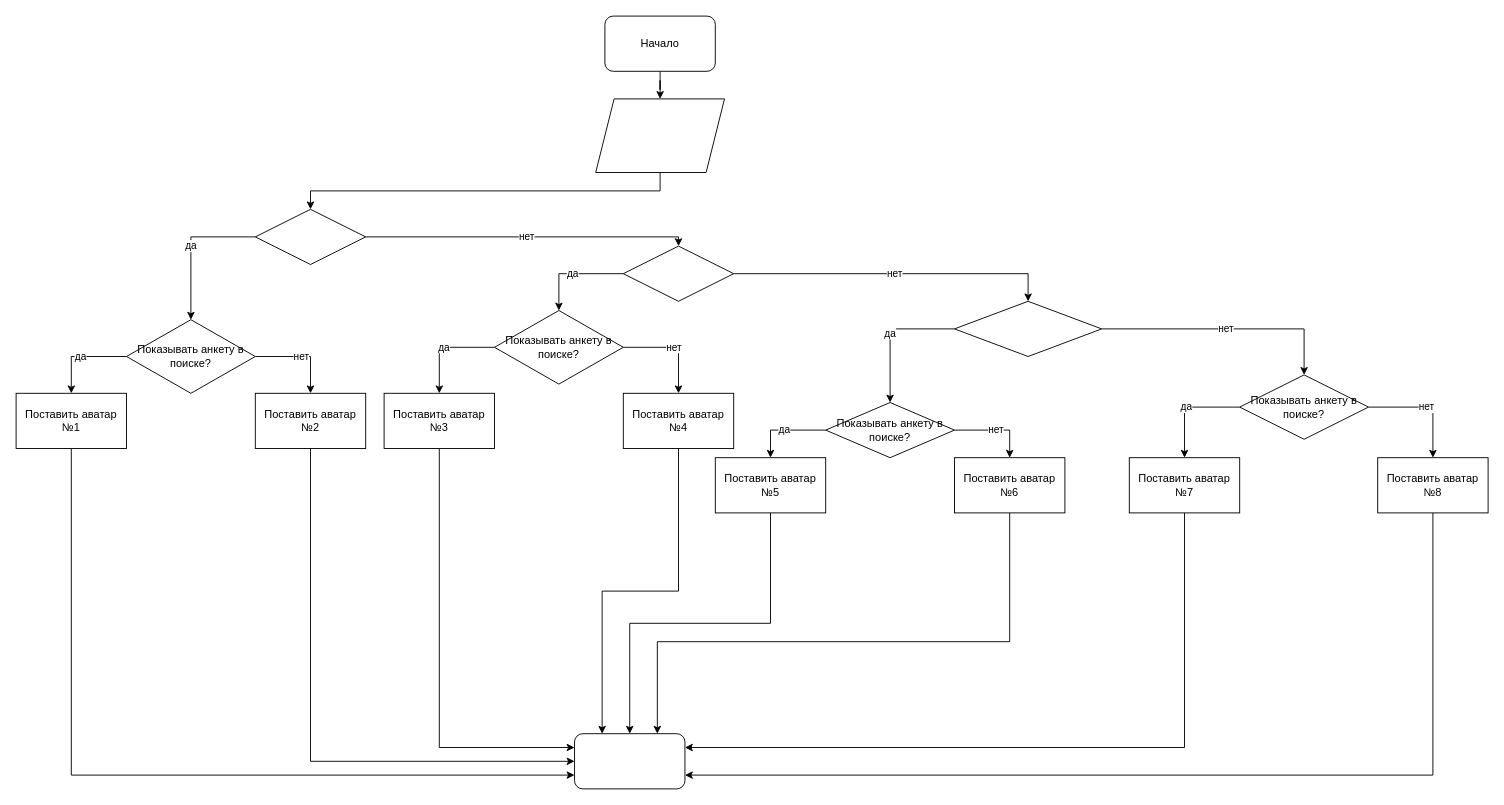
Image size: 1504x805. Some labels were removed from this diagram. Each missing label, with the box of its shape:
Выбран другой пол?: (954, 300, 1102, 356)
Конец: (574, 733, 685, 789)
Пол женский?: (622, 245, 734, 301)
Пол мужской?: (254, 208, 366, 264)
Поле ввода данных: (595, 98, 724, 172)
